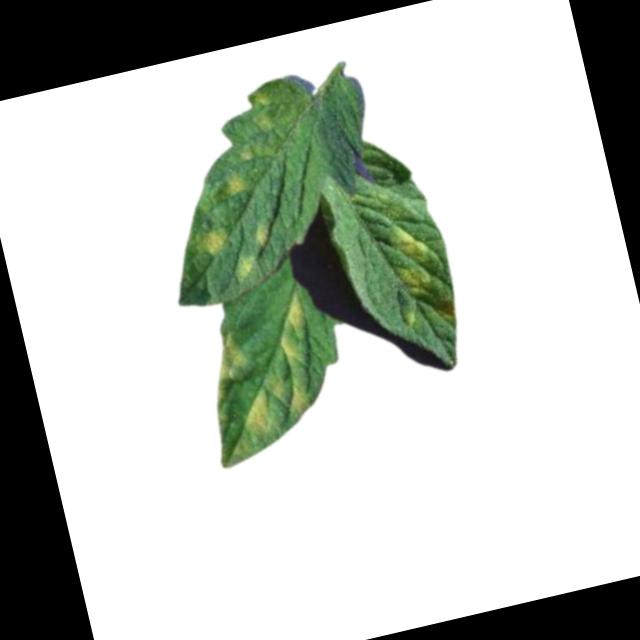Leaf_Mold: (238, 373, 314, 436), (199, 329, 256, 402), (386, 223, 436, 303), (270, 294, 314, 363), (218, 168, 255, 202), (203, 224, 231, 256), (231, 254, 259, 280), (255, 223, 275, 249)
